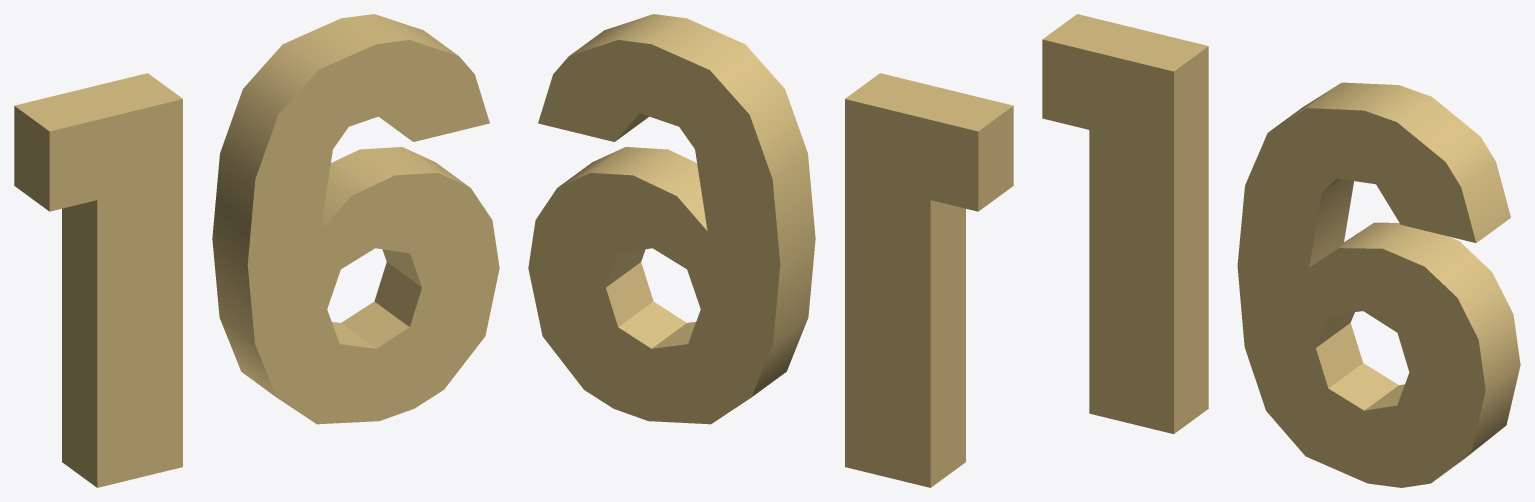
Rendered from kr_num_16.glb.
3 renders of one model, left to right at view 1: azimuth 30°, elevation 25°; view 2: azimuth 150°, elevation 25°; view 3: azimuth 330°, elevation 25°, orthographic.
Visible parts, largest first — view 1: vc_m8_r2; view 2: vc_m8_r2; view 3: vc_m8_r2.
Part boxes in pixels (x1=…): vc_m8_r2: x1=14, y1=14, x2=499, y2=487; vc_m8_r2: x1=528, y1=14, x2=1013, y2=487; vc_m8_r2: x1=1042, y1=14, x2=1520, y2=487.
Bounding box in the file's own units: 0.441 × 0.3537 × 0.06.
